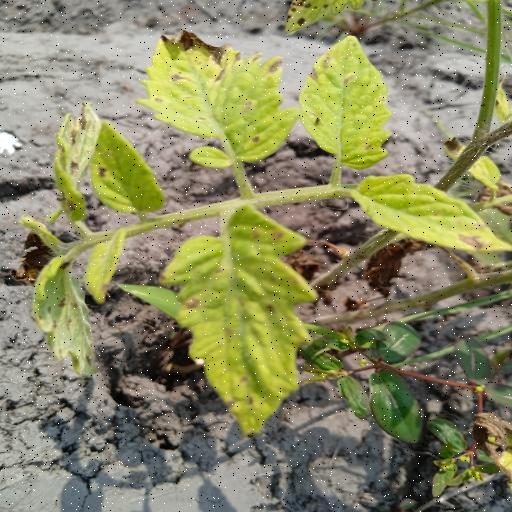Tomato_Brown_Spots: (165, 207, 324, 438), (131, 30, 304, 172), (299, 30, 399, 168), (348, 172, 512, 256)
